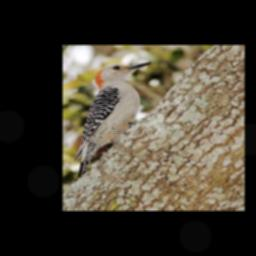Woodpecker: (68, 56, 155, 185)
